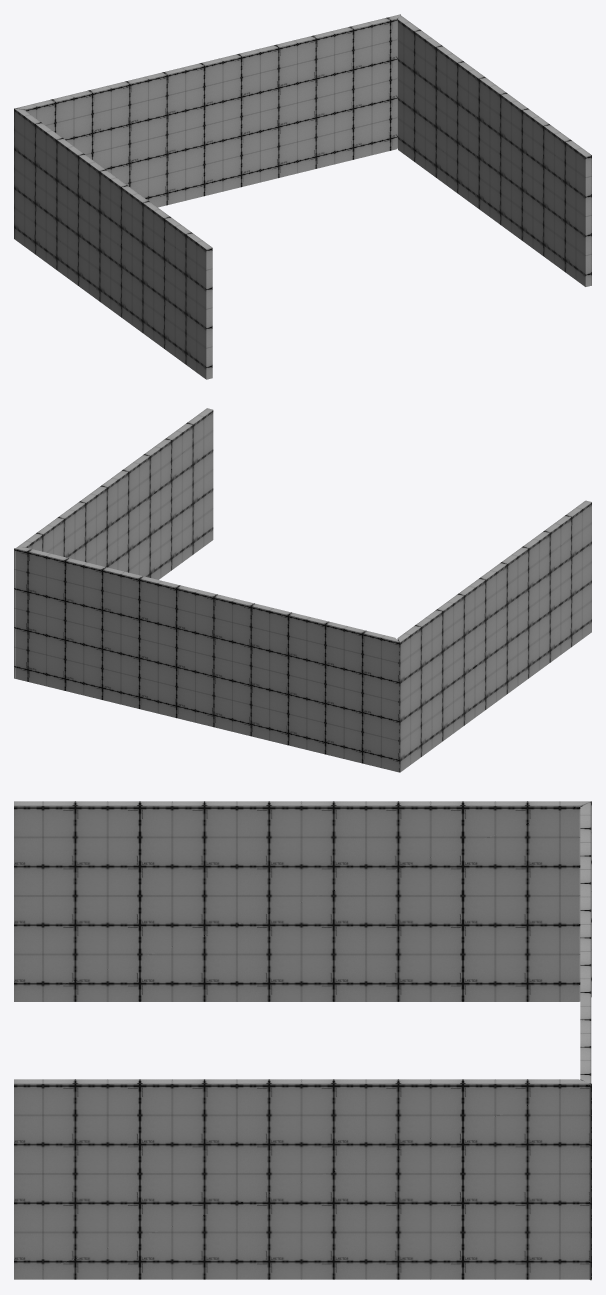
File: Casa_EXTERIOR_Muro_Posterior_Alto.fbx
3 renders of one model, top to bottom at view 1: azimuth 30°, elevation 25°; view 2: azimuth 150°, elevation 25°; view 3: azimuth 270°, elevation 25°, orthographic. The views are drawn at different scales.
Visible parts, largest first — view 1: Casa_EXTERIOR_Muro_Posterior_Alto; view 2: Casa_EXTERIOR_Muro_Posterior_Alto; view 3: Casa_EXTERIOR_Muro_Posterior_Alto.
Part boxes in pixels (x1,y1,x2,y2): Casa_EXTERIOR_Muro_Posterior_Alto: [14, 14, 591, 379]; Casa_EXTERIOR_Muro_Posterior_Alto: [14, 408, 591, 772]; Casa_EXTERIOR_Muro_Posterior_Alto: [14, 801, 591, 1280].
Size of the model in its own units: 10.38 by 3.35 by 8.95.
